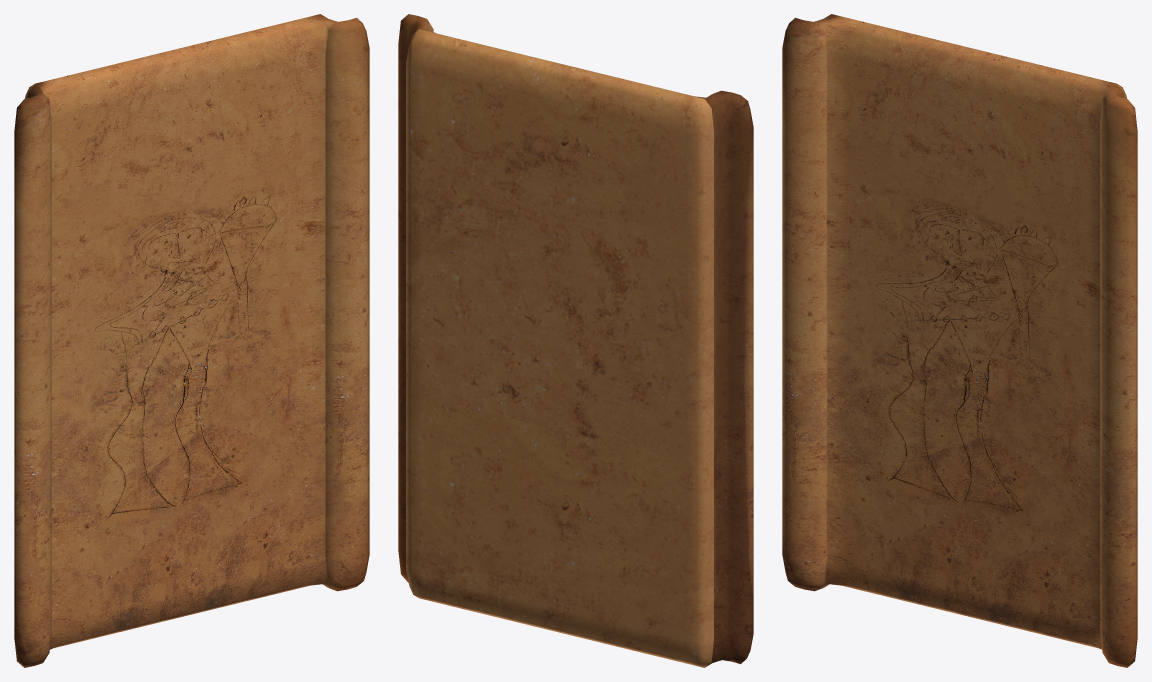
The picture shows the model from 3 angles, left to right: view 1: azimuth 30°, elevation 25°; view 2: azimuth 150°, elevation 25°; view 3: azimuth 330°, elevation 25°; orthographic projection.
Parts seen in each view (by area): view 1: m_tegola; view 2: m_tegola; view 3: m_tegola.
Boxes of the visible parts, x1,y1,x2,y2 form: m_tegola: (14, 14, 369, 667); m_tegola: (398, 14, 753, 667); m_tegola: (782, 14, 1137, 667).
Bounding box in the file's own units: 0.4283 × 0.6589 × 0.0557.
Materials: 1 (1 with a texture image).
